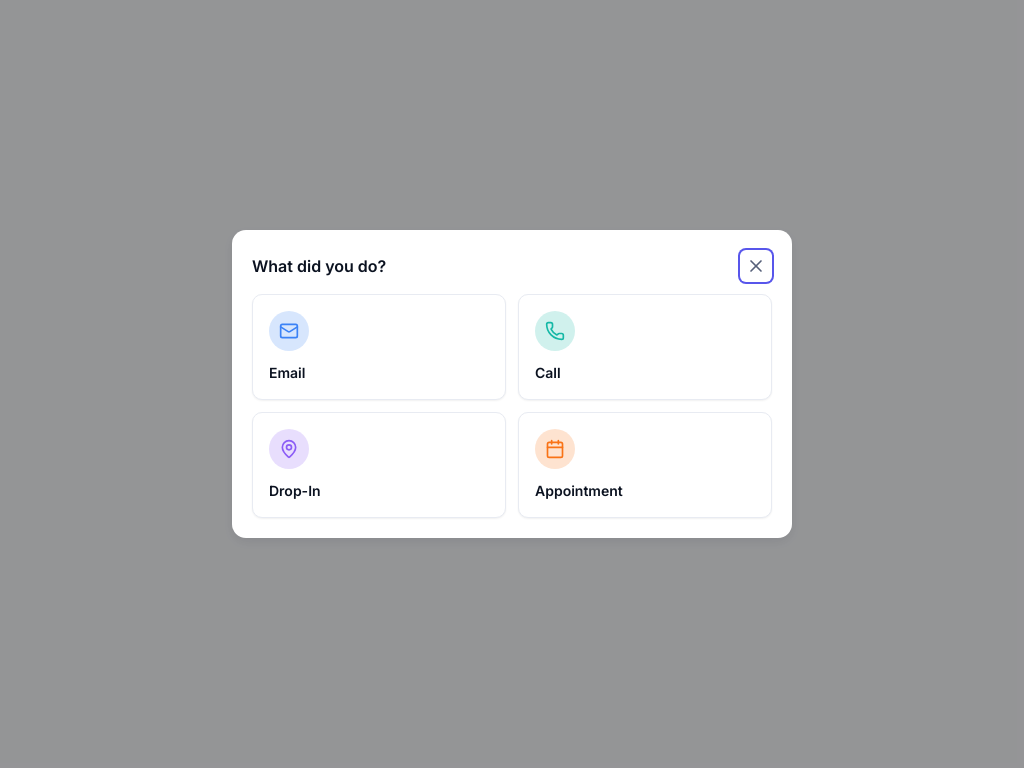
Test: LogActivitySheet — type picker › routes Email → form without duration field
The width and height of the screenshot is (1024, 768).
Click the button "Email" at (379, 347), box [252,294,506,400]
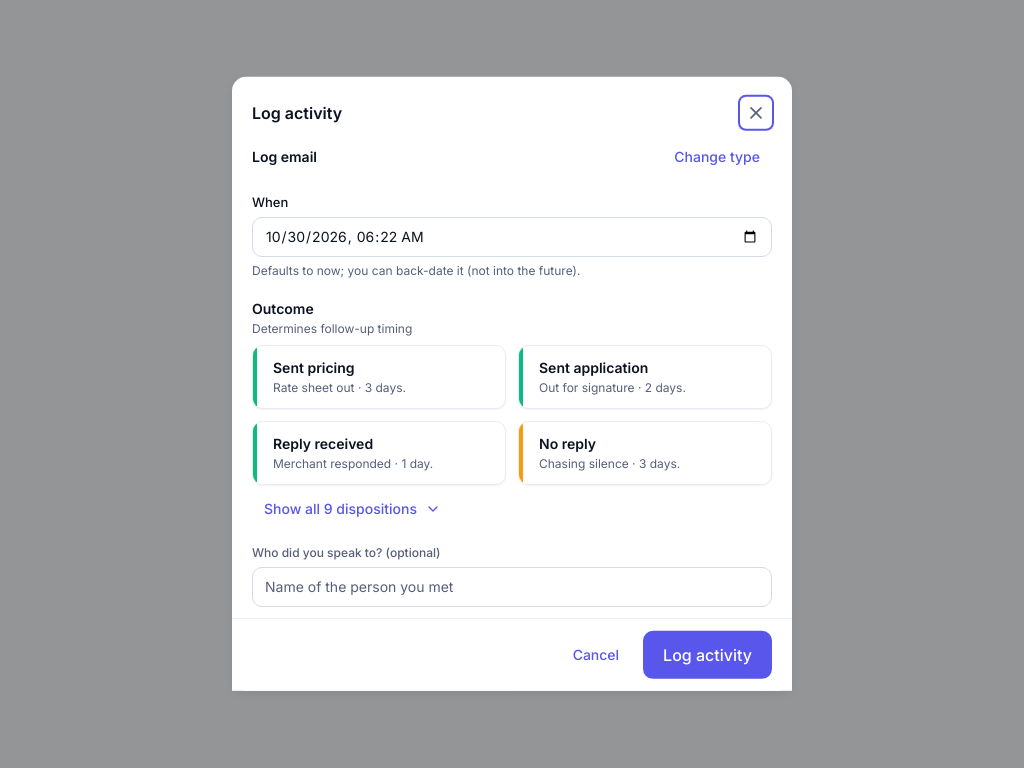
Check: the heading "Log email" is shown, box [252,147,317,167]
